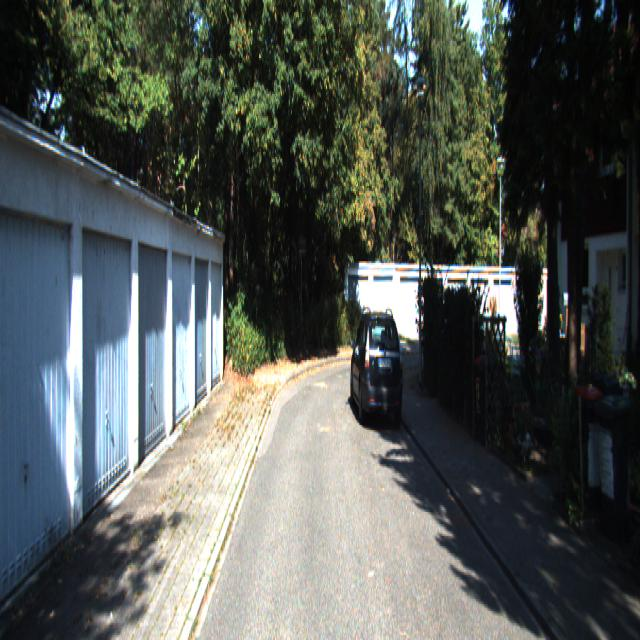Car: (350, 307, 404, 425)
